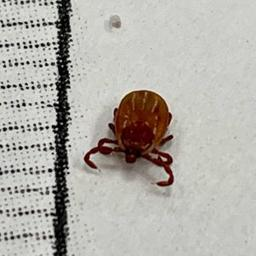Rhipicephalus sanguineus: (84, 90, 174, 187)
